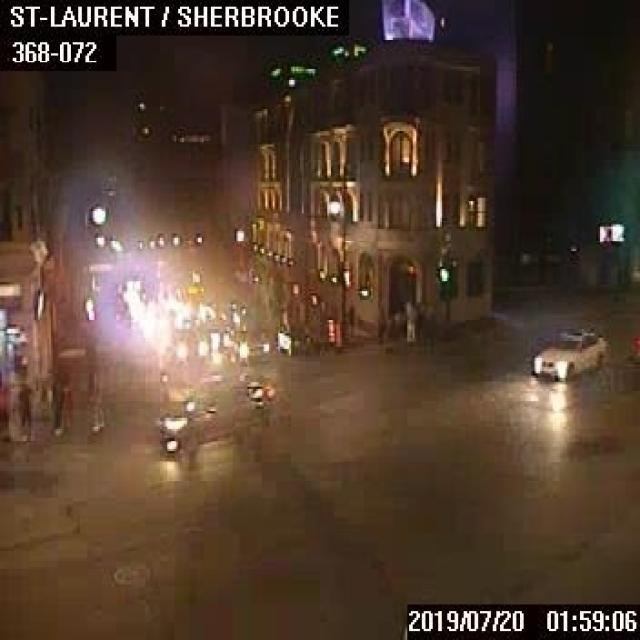construction: (332, 320, 340, 348), (325, 318, 334, 342)
pedestrian: (53, 372, 72, 433), (86, 363, 102, 430), (17, 382, 31, 429), (402, 300, 414, 340)
vehicle: (155, 376, 267, 454), (529, 327, 606, 378), (234, 331, 268, 362)
